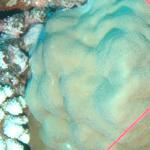alive: (1, 4, 148, 148)
